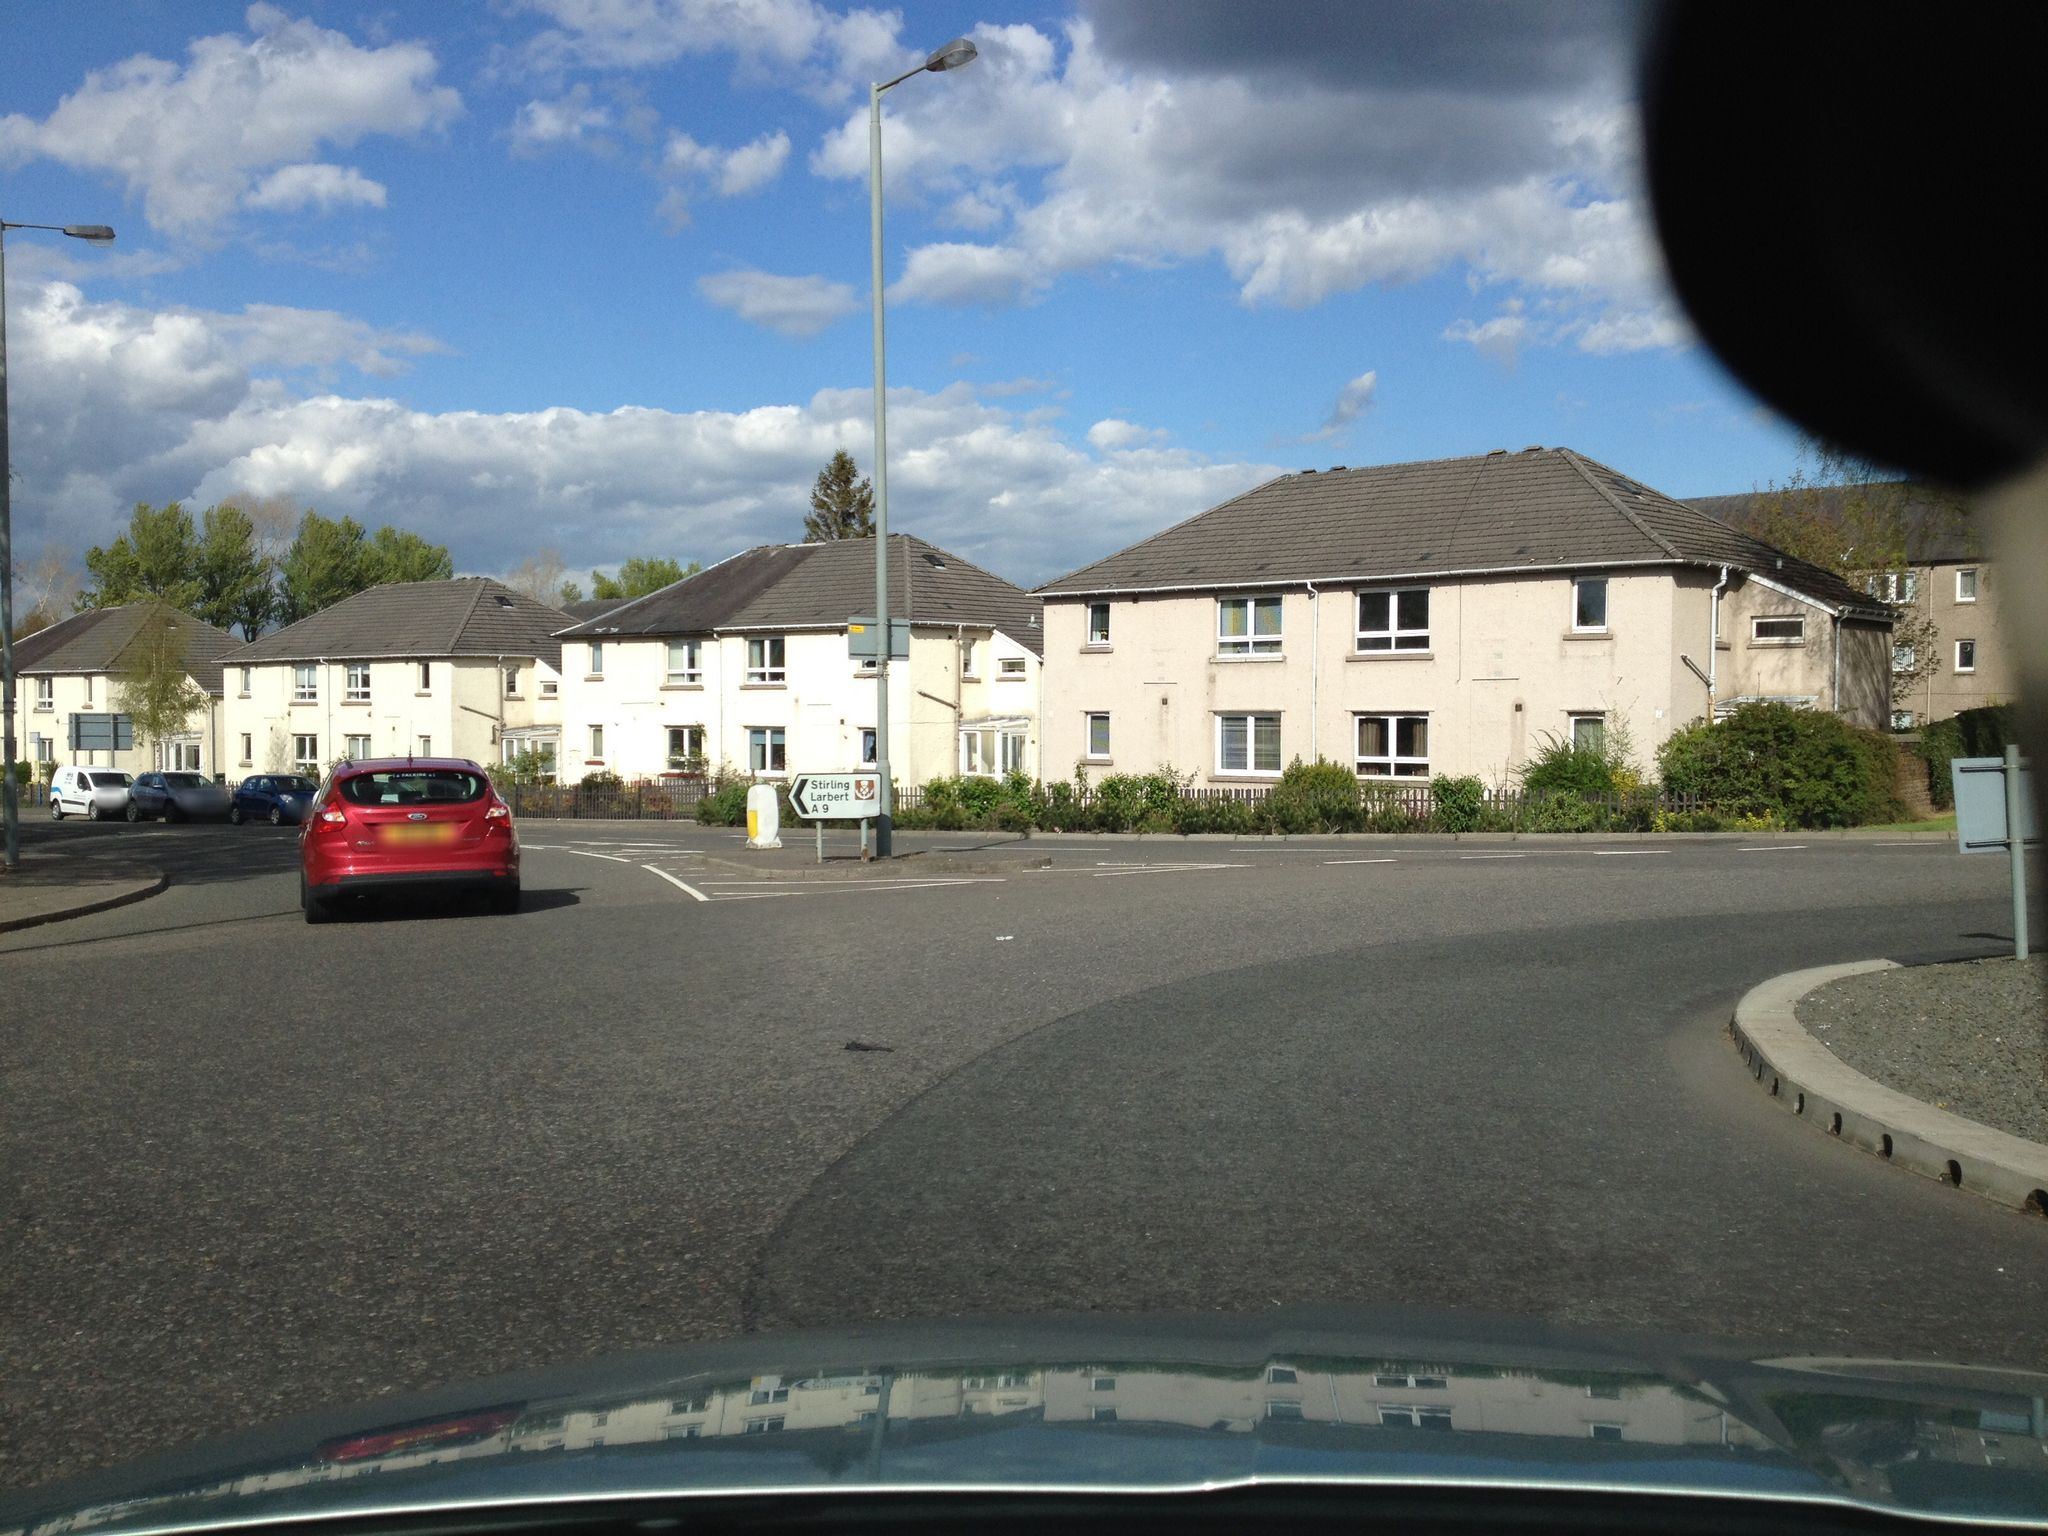car: (297, 757, 522, 921), (126, 770, 232, 823), (48, 765, 135, 823), (229, 773, 319, 826)
